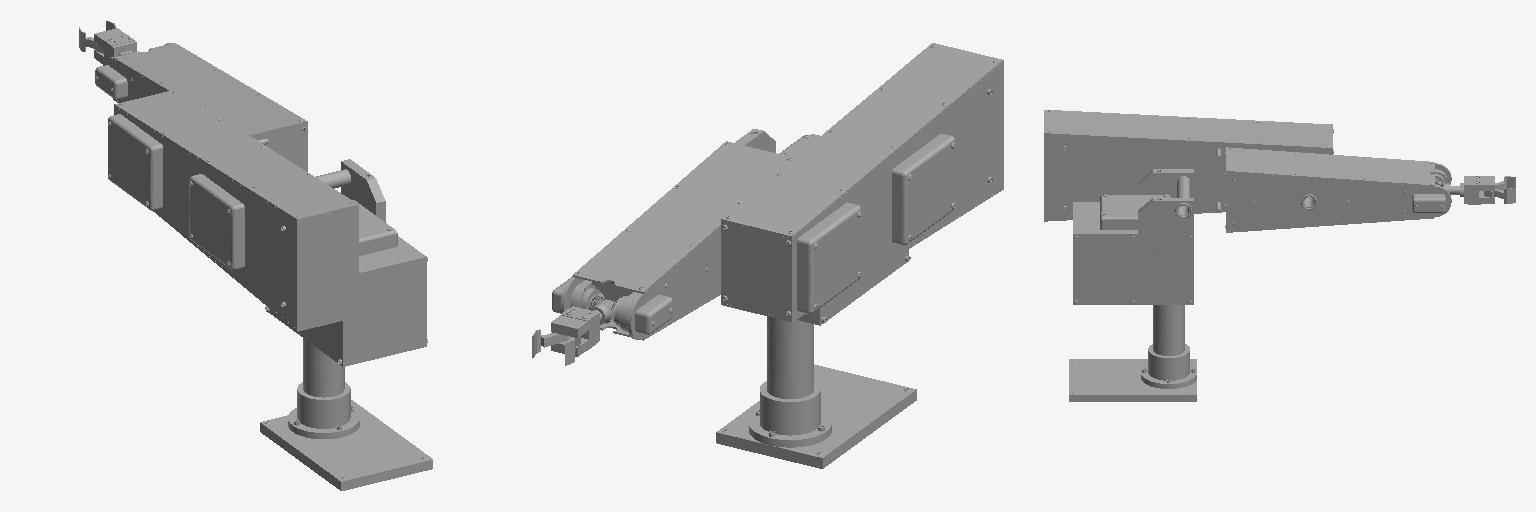
The robot description file, URDF, robot "thor_arm":
<?xml version="1.0" ?>
<!-- =================================================================================== -->
<!-- |    This document was autogenerated by xacro from src/thor_urdf/urdf/thor.urdf.xacro | -->
<!-- |    EDITING THIS FILE BY HAND IS NOT RECOMMENDED                                 | -->
<!-- =================================================================================== -->
<robot name="thor_arm">
  <gazebo>
    <plugin filename="libgazebo_ros2_control.so" name="gazebo_ros2_control">
      <robot_param>robot_description</robot_param>
      <robot_param_node>robot_state_publisher</robot_param_node>
      <parameters>/home/salman/GryphonEC-ROS2/ws_thor/install/thor_controller/share/thor_controller/config/thor_controllers.yaml</parameters>
    </plugin>
  </gazebo>
  <ros2_control name="RobotSystem" type="system">
    <!-- HARDWARE -->
    <hardware>
      <plugin>gazebo_ros2_control/GazeboSystem</plugin>
    </hardware>
    <joint name="gripperbase_to_armgearleft">
      <param name="mimic">gripperbase_to_armgearright</param>
      <param name="multiplier">-1</param>
    </joint>
    <!-- JOINTS -->
    <joint name="joint_1">
      <command_interface name="position"/>
      <command_interface name="velocity"/>
      <state_interface name="position"/>
      <state_interface name="velocity"/>
    </joint>
    <joint name="joint_2">
      <command_interface name="position"/>
      <command_interface name="velocity"/>
      <state_interface name="position"/>
      <state_interface name="velocity"/>
    </joint>
    <joint name="joint_3">
      <command_interface name="position"/>
      <command_interface name="velocity"/>
      <state_interface name="position"/>
      <state_interface name="velocity"/>
    </joint>
    <joint name="joint_4">
      <command_interface name="position"/>
      <command_interface name="velocity"/>
      <state_interface name="position"/>
      <state_interface name="velocity"/>
    </joint>
    <joint name="joint_5">
      <command_interface name="position"/>
      <command_interface name="velocity"/>
      <state_interface name="position"/>
      <state_interface name="velocity"/>
    </joint>
    <joint name="gripperbase_to_armgearright">
      <command_interface name="position"/>
      <command_interface name="velocity"/>
      <state_interface name="position"/>
      <state_interface name="velocity"/>
    </joint>
  </ros2_control>
  <!-- Material definitions -->
  <material name="silver">
    <color rgba="0.700 0.700 0.700 1.0"/>
  </material>
  <!-- Links -->
  <link name="world"/>
  <link name="base_link">
    <inertial>
      <origin rpy="0 0 0" xyz="2.6075162618733064e-09 -0.029687845824987256 0.05035622678340518"/>
      <mass value="8.760837729915295"/>
      <inertia ixx="0.055534" ixy="0.0" ixz="0.0" iyy="0.036307" iyz="-0.011146" izz="0.037464"/>
    </inertial>
    <visual>
      <origin rpy="0 0 0" xyz="0 0 0"/>
      <geometry>
        <mesh filename="package://thor_urdf/meshes/base_link.stl" scale="0.001 0.001 0.001"/>
      </geometry>
      <material name="silver"/>
    </visual>
    <collision>
      <origin rpy="0 0 0" xyz="0 0 0"/>
      <geometry>
        <mesh filename="package://thor_urdf/meshes/base_link.stl" scale="0.001 0.001 0.001"/>
      </geometry>
    </collision>
  </link>
  <link name="link_1">
    <inertial>
      <origin rpy="0 0 0" xyz="-0.0002522803737960238 -0.06081817480908806 0.07933683412425585"/>
      <mass value="36.4482470253964"/>
      <inertia ixx="0.220238" ixy="0.000816" ixz="0.00101" iyy="0.141934" iyz="-0.010654" izz="0.195048"/>
    </inertial>
    <visual>
      <origin rpy="0 0 0" xyz="0.0 -0.0 -0.19"/>
      <geometry>
        <mesh filename="package://thor_urdf/meshes/Waist_1.stl" scale="0.001 0.001 0.001"/>
      </geometry>
      <material name="silver"/>
    </visual>
    <collision>
      <origin rpy="0 0 0" xyz="0.0 -0.0 -0.19"/>
      <geometry>
        <mesh filename="package://thor_urdf/meshes/Waist_1.stl" scale="0.001 0.001 0.001"/>
      </geometry>
    </collision>
  </link>
  <link name="link_2">
    <inertial>
      <origin rpy="0 0 0" xyz="-0.05556645527562071 -0.004167729265803565 3.3002623928135577e-07"/>
      <mass value="62.39457105281159"/>
      <inertia ixx="1.477617" ixy="0.016793" ixz="-0.0" iyy="0.174618" iyz="0.0" izz="1.429036"/>
    </inertial>
    <visual>
      <origin rpy="0 0 0" xyz="0.07 -0.026322 -0.376322"/>
      <geometry>
        <mesh filename="package://thor_urdf/meshes/Shoulder_1.stl" scale="0.001 0.001 0.001"/>
      </geometry>
      <material name="silver"/>
    </visual>
    <collision>
      <origin rpy="0 0 0" xyz="0.07 -0.026322 -0.376322"/>
      <geometry>
        <mesh filename="package://thor_urdf/meshes/Shoulder_1.stl" scale="0.001 0.001 0.001"/>
      </geometry>
    </collision>
  </link>
  <link name="link_3">
    <inertial>
      <origin rpy="0 0 0" xyz="0.052001488366736424 0.015387963557426054 2.295063472990133e-06"/>
      <mass value="26.84125839669147"/>
      <inertia ixx="0.324303" ixy="1e-06" ixz="-0.0" iyy="0.046323" iyz="-1.1e-05" izz="0.326785"/>
    </inertial>
    <visual>
      <origin rpy="0 0 0" xyz="0.07 -0.251322 -0.376322"/>
      <geometry>
        <mesh filename="package://thor_urdf/meshes/Elbow_v1_1.stl" scale="0.001 0.001 0.001"/>
      </geometry>
      <material name="silver"/>
    </visual>
    <collision>
      <origin rpy="0 0 0" xyz="0.07 -0.251322 -0.376322"/>
      <geometry>
        <mesh filename="package://thor_urdf/meshes/Elbow_v1_1.stl" scale="0.001 0.001 0.001"/>
      </geometry>
    </collision>
  </link>
  <link name="link_4">
    <inertial>
      <origin rpy="0 0 0" xyz="-0.028000182710083837 0.0023134756758433905 -2.0573877996199474e-05"/>
      <mass value="0.07336127644204224"/>
      <inertia ixx="4e-06" ixy="-0.0" ixz="-0.0" iyy="1.4e-05" iyz="-0.0" izz="1.6e-05"/>
    </inertial>
    <visual>
      <origin rpy="0 0 0" xyz="-0.01 -0.476322 -0.376322"/>
      <geometry>
        <mesh filename="package://thor_urdf/meshes/Wrist_T_shape_v1_1.stl" scale="0.001 0.001 0.001"/>
      </geometry>
      <material name="silver"/>
    </visual>
    <collision>
      <origin rpy="0 0 0" xyz="-0.01 -0.476322 -0.376322"/>
      <geometry>
        <mesh filename="package://thor_urdf/meshes/Wrist_T_shape_v1_1.stl" scale="0.001 0.001 0.001"/>
      </geometry>
    </collision>
  </link>
  <link name="link_5">
    <inertial>
      <origin rpy="0 0 0" xyz="-1.9698045254992747e-07 0.04756806709239264 2.6795981544758263e-08"/>
      <mass value="0.6360331426782216"/>
      <inertia ixx="0.000418" ixy="-0.0" ixz="-0.0" iyy="0.00015" iyz="-0.0" izz="0.000404"/>
    </inertial>
    <visual>
      <origin rpy="0 0 0" xyz="0.018 -0.498134 -0.376318"/>
      <geometry>
        <mesh filename="package://thor_urdf/meshes/Wrist_gripper_base_v2_1.stl" scale="0.001 0.001 0.001"/>
      </geometry>
      <material name="silver"/>
    </visual>
    <collision>
      <origin rpy="0 0 0" xyz="0.018 -0.498134 -0.376318"/>
      <geometry>
        <mesh filename="package://thor_urdf/meshes/Wrist_gripper_base_v2_1.stl" scale="0.001 0.001 0.001"/>
      </geometry>
    </collision>
  </link>
  <link name="gripper_mid_point">
    <inertial>
      <origin rpy="0 0 0" xyz="0 0 0"/>
      <mass value="0.01"/>
      <inertia ixx="1.0" ixy="0.0" ixz="0.0" iyy="1.0" iyz="0.0" izz="1.0"/>
    </inertial>
  </link>
  <link name="gripper_finger_right">
    <inertial>
      <origin rpy="0 0 0" xyz="0.005010907689285325 0.007530308144696352 3.1698777935851297e-08"/>
      <mass value="0.04489078009580989"/>
      <inertia ixx="1e-05" ixy="-3e-06" ixz="0.0" iyy="3e-06" iyz="-0.0" izz="1.1e-05"/>
    </inertial>
    <visual>
      <origin rpy="0 0 0" xyz="0.008258 -0.579592 -0.376318"/>
      <geometry>
        <mesh filename="package://thor_urdf/meshes/Wrist_r_gripper_v1_1.stl" scale="0.001 0.001 0.001"/>
      </geometry>
      <material name="silver"/>
    </visual>
    <collision>
      <origin rpy="0 0 0" xyz="0.008258 -0.579592 -0.376318"/>
      <geometry>
        <mesh filename="package://thor_urdf/meshes/Wrist_r_gripper_v1_1.stl" scale="0.001 0.001 0.001"/>
      </geometry>
    </collision>
  </link>
  <link name="gripper_finger_left">
    <inertial>
      <origin rpy="0 0 0" xyz="-0.005009888223430386 0.0075296833236281335 5.85669156838442e-07"/>
      <mass value="0.04488910182418366"/>
      <inertia ixx="1e-05" ixy="3e-06" ixz="0.0" iyy="3e-06" iyz="-0.0" izz="1.1e-05"/>
    </inertial>
    <visual>
      <origin rpy="0 0 0" xyz="0.027743 -0.579592 -0.376318"/>
      <geometry>
        <mesh filename="package://thor_urdf/meshes/Wrist_l_gripper_v1_1.stl" scale="0.001 0.001 0.001"/>
      </geometry>
      <material name="silver"/>
    </visual>
    <collision>
      <origin rpy="0 0 0" xyz="0.027743 -0.579592 -0.376318"/>
      <geometry>
        <mesh filename="package://thor_urdf/meshes/Wrist_l_gripper_v1_1.stl" scale="0.001 0.001 0.001"/>
      </geometry>
    </collision>
  </link>
  <!-- Joints -->
  <joint name="virtual_joint" type="fixed">
    <parent link="world"/>
    <child link="base_link"/>
    <origin rpy="0 0 0" xyz="0 0 0"/>
  </joint>
  <joint name="joint_1" type="revolute">
    <parent link="base_link"/>
    <child link="link_1"/>
    <origin rpy="0 0 0" xyz="0.0 0.0 0.19"/>
    <axis xyz="0.0 0.0 1.0"/>
    <limit effort="100.0" lower="-3.14159" upper="3.14159" velocity="1.0"/>
  </joint>
  <joint name="joint_2" type="revolute">
    <parent link="link_1"/>
    <child link="link_2"/>
    <origin rpy="0 0 0" xyz="-0.07 0.026322 0.186322"/>
    <axis xyz="-1.0 -0.0 0.0"/>
    <limit effort="150.0" lower="-1.5708" upper="1.5708" velocity="1.0"/>
  </joint>
  <joint name="joint_3" type="revolute">
    <parent link="link_2"/>
    <child link="link_3"/>
    <origin rpy="0 0 0" xyz="0.0 0.225 0.0"/>
    <axis xyz="1.0 0.0 -0.0"/>
    <limit effort="100.0" lower="-2.0944" upper="2.0944" velocity="1.0"/>
  </joint>
  <joint name="joint_4" type="revolute">
    <parent link="link_3"/>
    <child link="link_4"/>
    <origin rpy="0 0 0" xyz="0.08 0.225 0.0"/>
    <axis xyz="-1.0 -0.0 0.0"/>
    <limit effort="50.0" lower="-2.0944" upper="2.0944" velocity="1.5"/>
  </joint>
  <joint name="joint_5" type="revolute">
    <parent link="link_4"/>
    <child link="link_5"/>
    <origin rpy="0 0 0" xyz="-0.028 0.021812 -4e-06"/>
    <axis xyz="-0.0 1.0 -0.0"/>
    <limit effort="30.0" lower="-3.14159" upper="3.14159" velocity="2.0"/>
  </joint>
  <joint name="link5_to_midpoint" type="fixed">
    <parent link="link_5"/>
    <child link="gripper_mid_point"/>
    <origin rpy="0 0 0" xyz="0 0.075 0"/>
  </joint>
  <joint name="gripperbase_to_armgearright" type="revolute">
    <parent link="link_5"/>
    <child link="gripper_finger_right"/>
    <origin rpy="0 0 0" xyz="0.009742 0.081458 0.0"/>
    <axis xyz="-0.0 0.0 1.0"/>
    <limit effort="10.0" lower="-0.5" upper="0.5" velocity="2.0"/>
  </joint>
  <joint name="gripperbase_to_armgearleft" type="revolute">
    <parent link="link_5"/>
    <child link="gripper_finger_left"/>
    <origin rpy="0 0 0" xyz="-0.009743 0.081458 0.0"/>
    <axis xyz="-0.0 0.0 1.0"/>
    <limit effort="10.0" lower="-0.5" upper="0.5" velocity="2.0"/>
    <mimic joint="gripperbase_to_armgearright" multiplier="-1"/>
  </joint>
</robot>

--- Facts derived from the render (not from the file) ---
Views: 3 orthographic renders of the robot side by side, from view 1: azimuth 30°, elevation 25°; view 2: azimuth 150°, elevation 25°; view 3: azimuth 270°, elevation 25°.
Model thor_arm with 10 links and 9 joints (7 revolute, 2 fixed), rooted at world, posed every joint at zero.
Links seen in each view (by area): view 1: link_2, link_1, base_link, link_3, link_5; view 2: link_2, link_3, base_link, link_1, link_5; view 3: link_2, link_3, link_1, base_link, link_5.
Link boxes in pixels (<box>): link_2: <box>108,90,358,331</box>; link_1: <box>265,159,427,366</box>; base_link: <box>260,338,432,490</box>; link_3: <box>95,43,307,171</box>; link_5: <box>94,28,136,63</box>; link_2: <box>721,43,1003,321</box>; link_3: <box>552,141,793,340</box>; base_link: <box>716,316,916,468</box>; link_1: <box>735,129,910,325</box>; link_5: <box>551,300,612,356</box>; link_2: <box>1044,110,1333,221</box>; link_3: <box>1225,147,1451,232</box>; link_1: <box>1073,169,1193,304</box>; base_link: <box>1069,305,1196,401</box>; link_5: <box>1441,176,1494,204</box>.
Bounding box of the posed robot: 0.269 × 0.8441 × 0.4649 m (x, y, z).
8 mesh visuals loaded from 8 distinct referenced files (8 binary STL).
